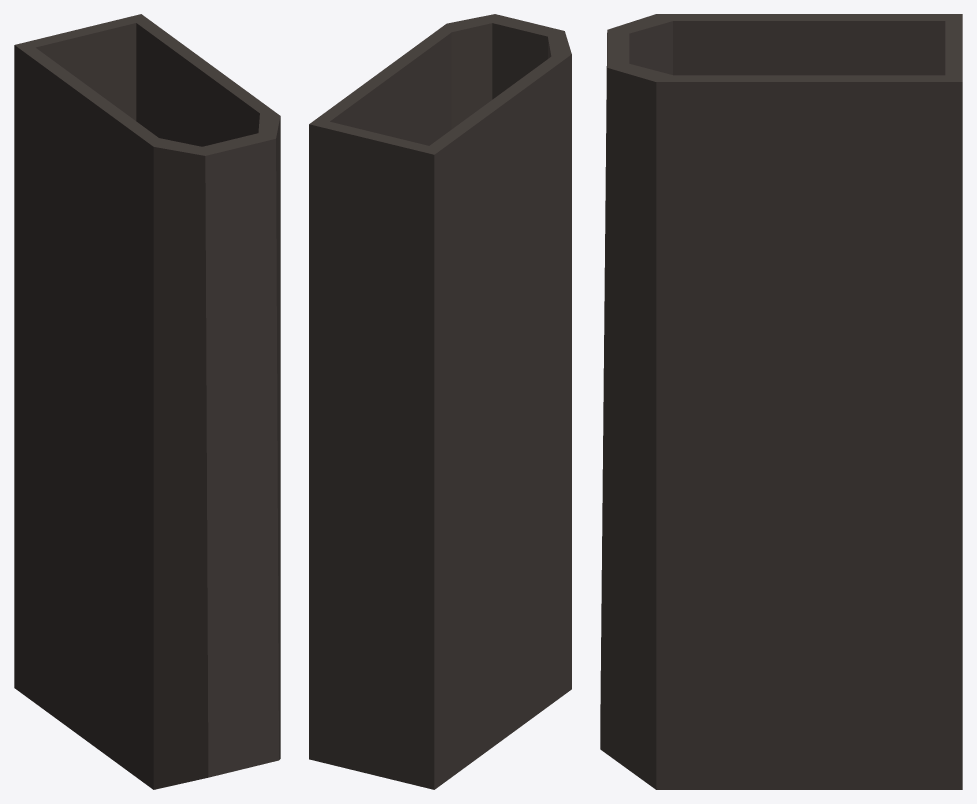
File: M1Carbine_Gun.glb
The picture shows the model from 3 angles, left to right: view 1: azimuth 30°, elevation 25°; view 2: azimuth 150°, elevation 25°; view 3: azimuth 270°, elevation 25°; orthographic projection. The views are drawn at different scales.
Visible parts, largest first — view 1: M1CarbineMag; view 2: M1CarbineMag; view 3: M1CarbineMag.
Part boxes in pixels (x1,y1,x2,y2): M1CarbineMag: [14, 14, 280, 789]; M1CarbineMag: [309, 14, 571, 789]; M1CarbineMag: [600, 14, 962, 789].
Size of the model in its own units: 0.0272 by 0.1316 by 0.061.
1 material, 1 textured.
